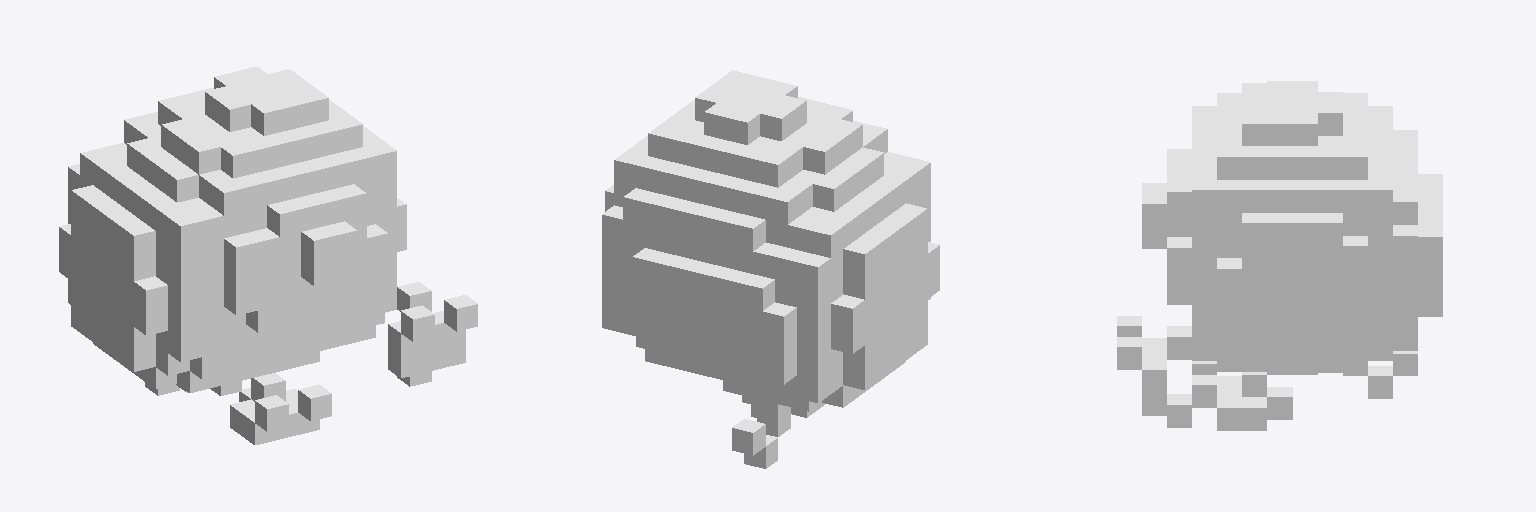
File: PookaInflate1Cardinal.obj
3 renders of one model, left to right at view 1: azimuth 30°, elevation 25°; view 2: azimuth 150°, elevation 25°; view 3: azimuth 270°, elevation 25°, orthographic.
Visible parts, largest first — view 1: object 1; view 2: object 1; view 3: object 1.
Boxes of the visible parts, x1=… form: object 1: x1=59, y1=67, x2=477, y2=444; object 1: x1=602, y1=70, x2=939, y2=468; object 1: x1=1117, y1=81, x2=1442, y2=430.
Bounding box in the file's own units: 1.3 × 1.4 × 1.3.